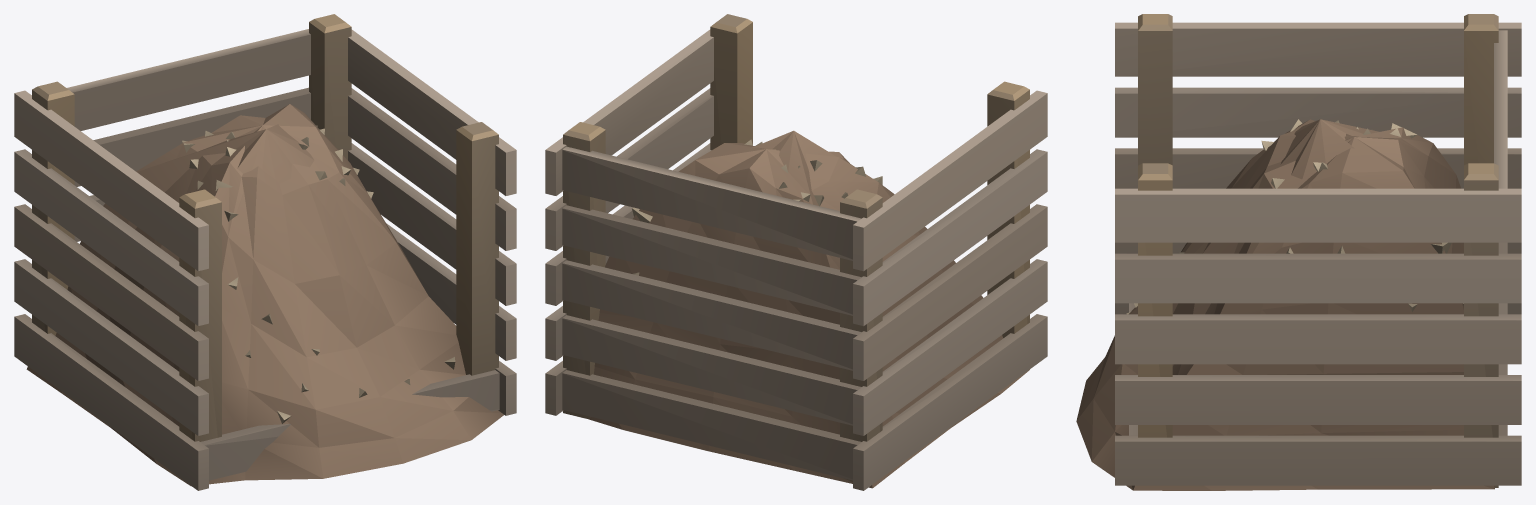
The model's file is compost.glb.
The picture shows the model from 3 angles, left to right: view 1: azimuth 30°, elevation 25°; view 2: azimuth 150°, elevation 25°; view 3: azimuth 270°, elevation 25°; orthographic projection. The views are drawn at different scales.
Visible parts, largest first — view 1: compost.001; view 2: compost.001; view 3: compost.001.
Boxes of the visible parts, x1,y1,x2,y2 form: compost.001: [14, 14, 516, 490]; compost.001: [545, 14, 1047, 490]; compost.001: [1076, 14, 1521, 490].
Bounding box in the file's own units: 0.88 × 0.7688 × 0.9637.
